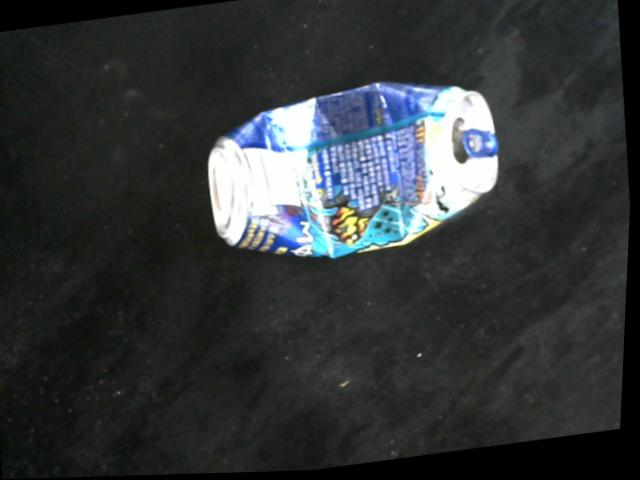can: (209, 84, 504, 255)
